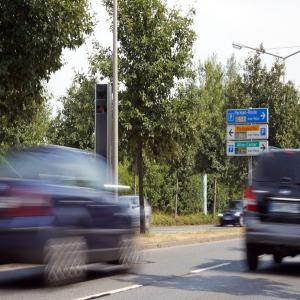Vehicle-registration-plate: (269, 204, 300, 215)
